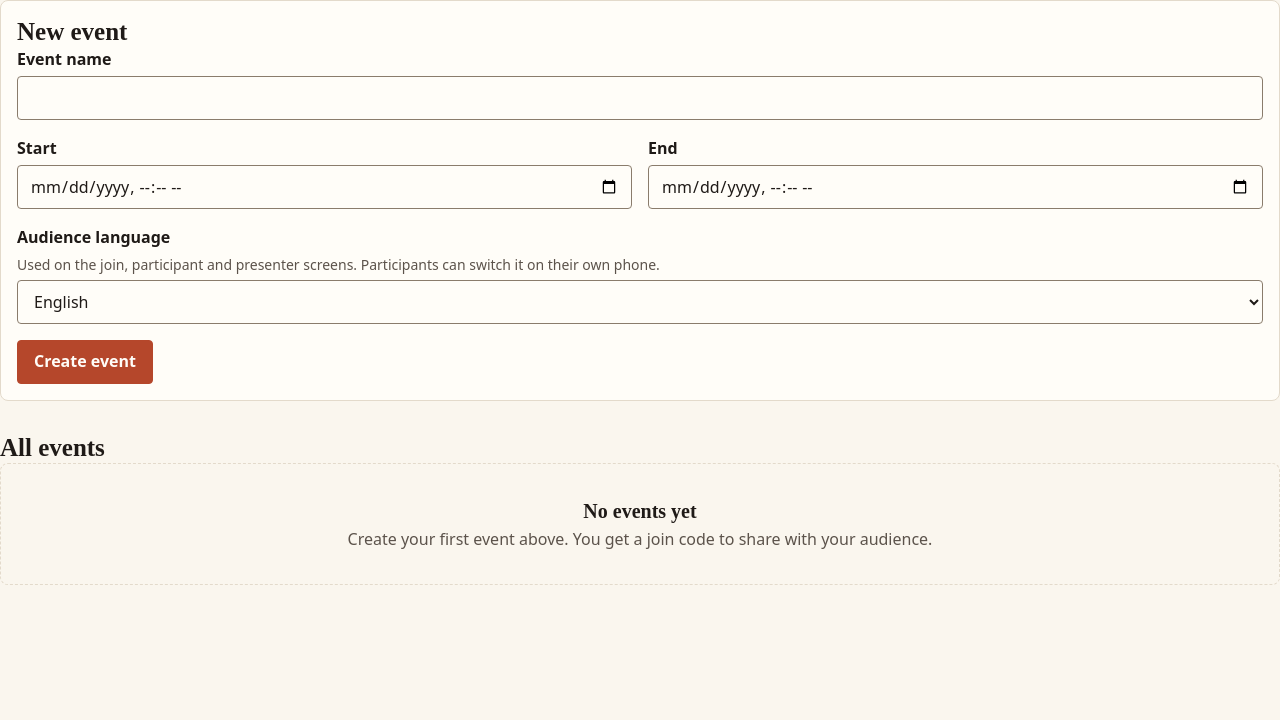
Test: EventManager › shows the join code and URL after creating
Type "New" into the field labelled "Event name" at (640, 98), box x1=17 y1=76 x2=1263 y2=120
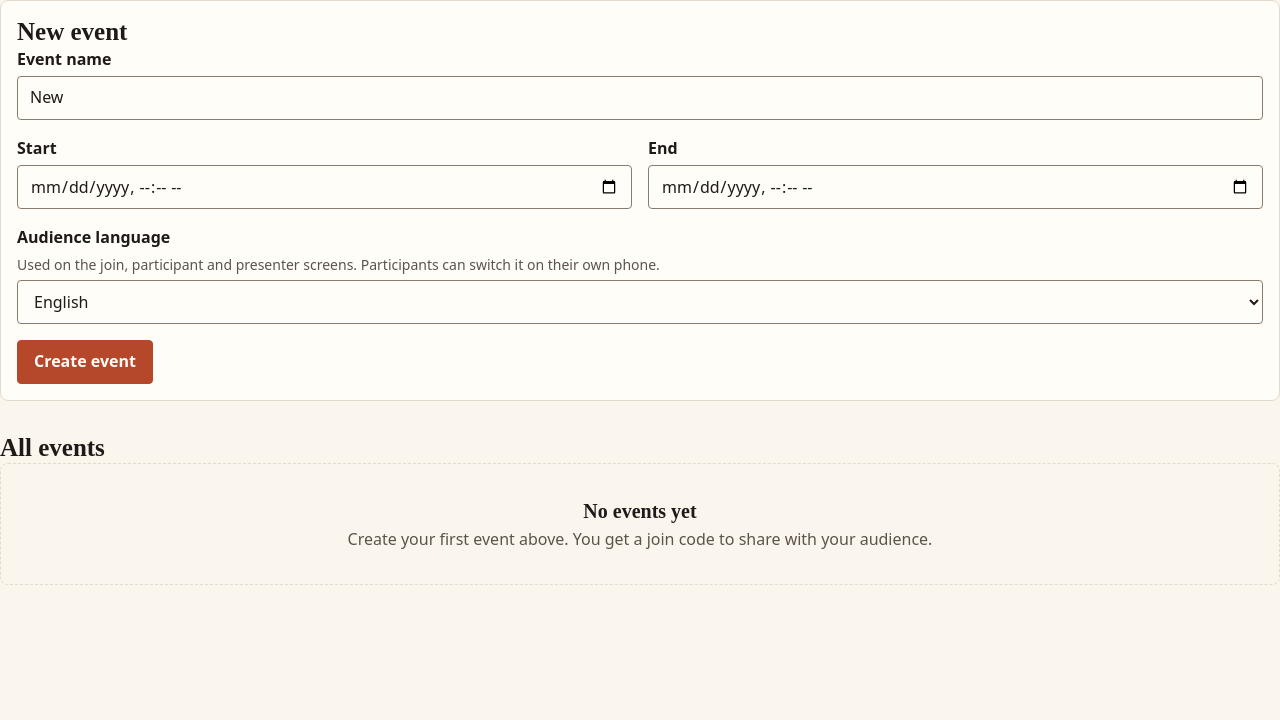
Type "2030-01-01T10:00" into the field labelled "Start" at (324, 187), box x1=17 y1=165 x2=632 y2=209
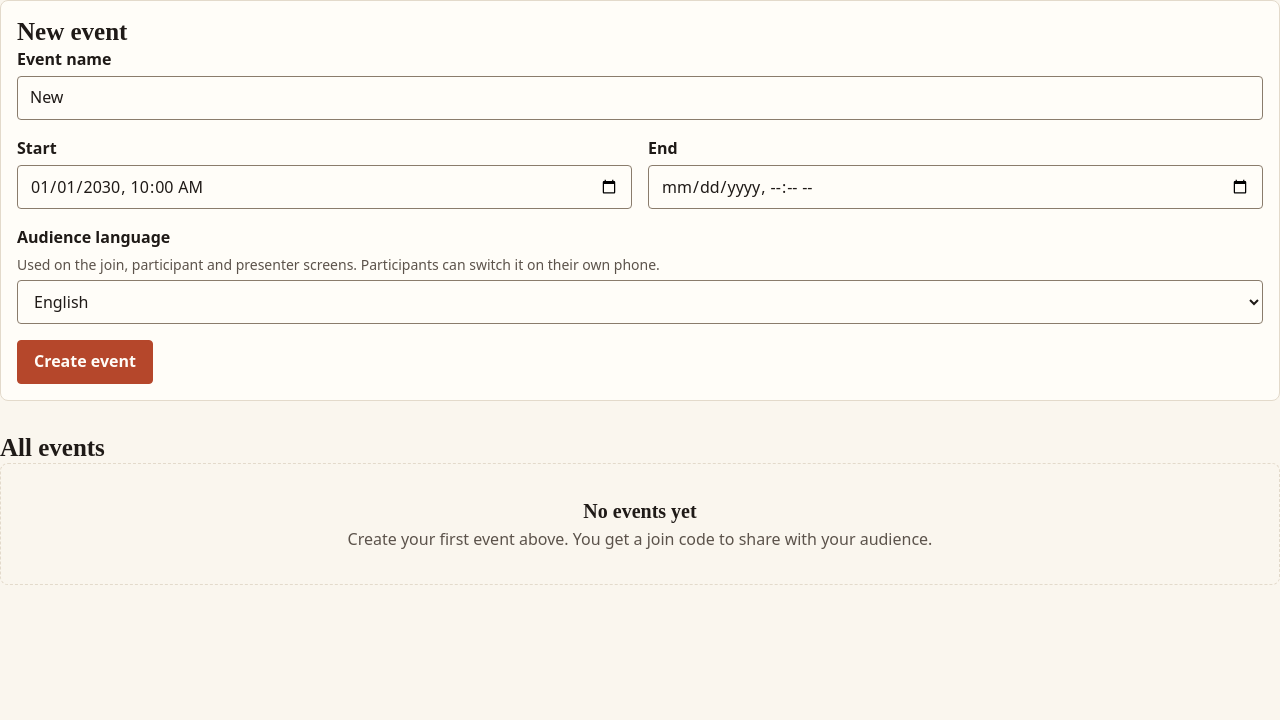
Type "2030-01-01T12:00" into the field labelled "End" at (956, 187), box x1=648 y1=165 x2=1263 y2=209
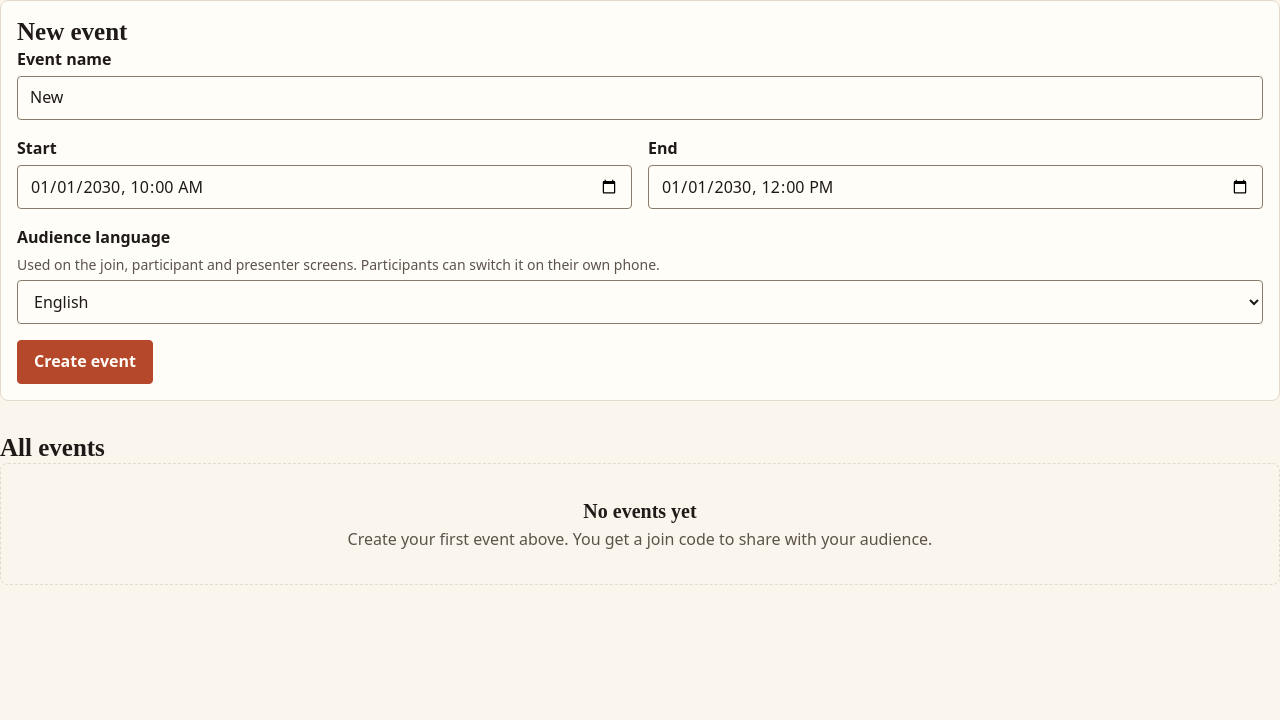
Click the button "Create event" at (85, 362), box x1=17 y1=340 x2=153 y2=384
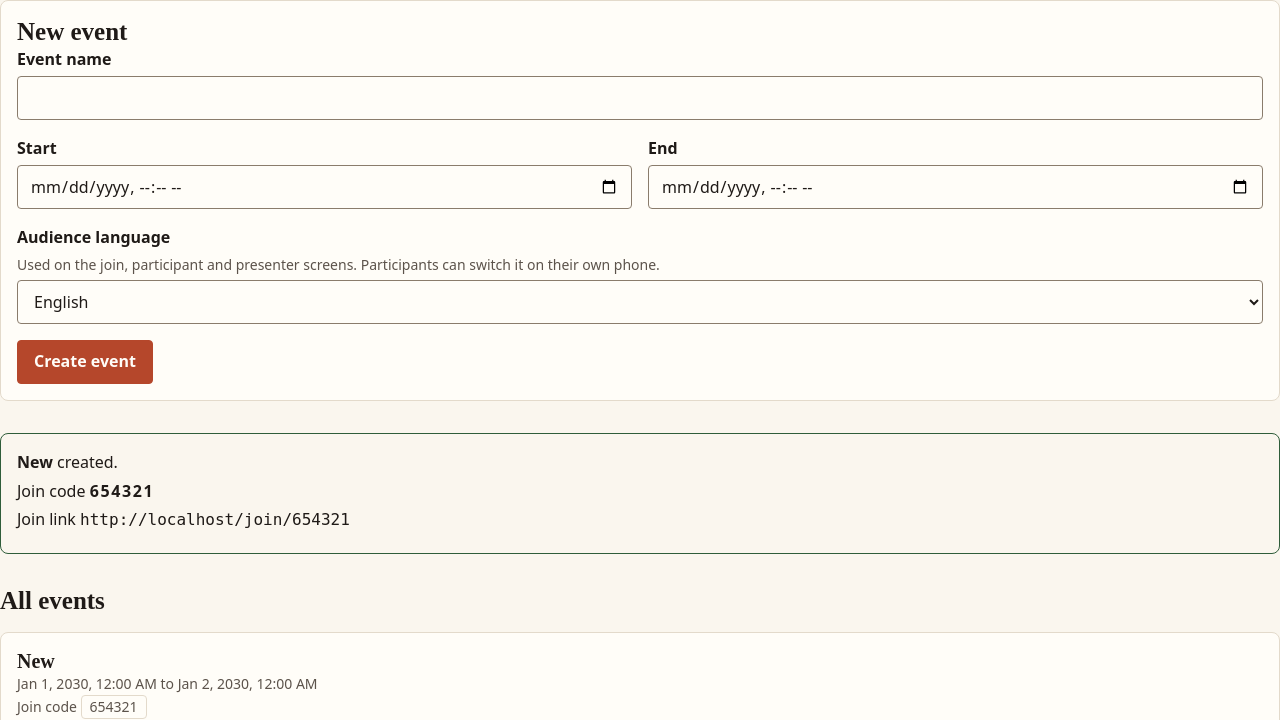
Expected: the message shows "654321", x1=90 y1=480 x2=154 y2=502
Expected: the message shows "/join/654321", x1=80 y1=510 x2=350 y2=530
